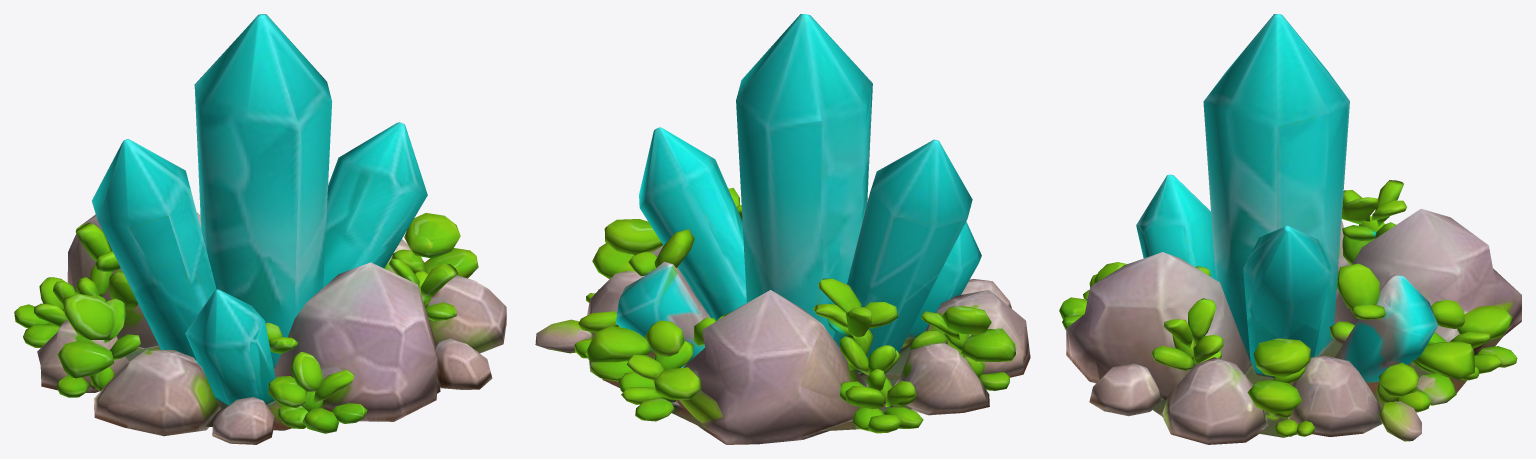
Rendered from r2c4_turquoise_crystal_cluster.glb.
3 views of the same model, side by side, from view 1: azimuth 30°, elevation 25°; view 2: azimuth 150°, elevation 25°; view 3: azimuth 270°, elevation 25° (orthographic).
Size of the model in its own units: 1 by 0.791 by 0.9863.
Materials: 1 (1 with a texture image).
